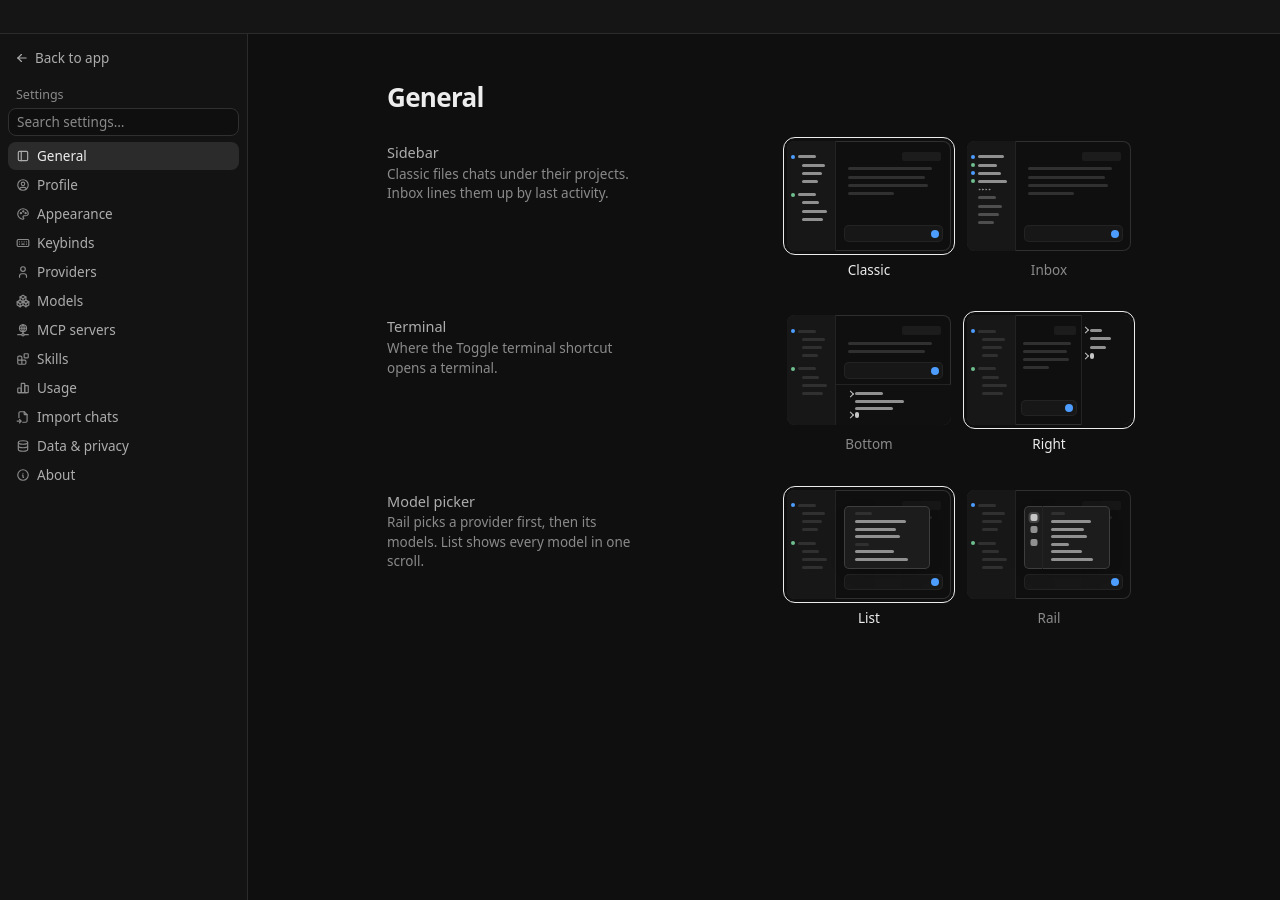
Test: settings viewport layout › lets the terminal shortcut target the bottom panel
Click the radio button labelled "Bottom".
click(869, 384)  # box [787,315,951,454]
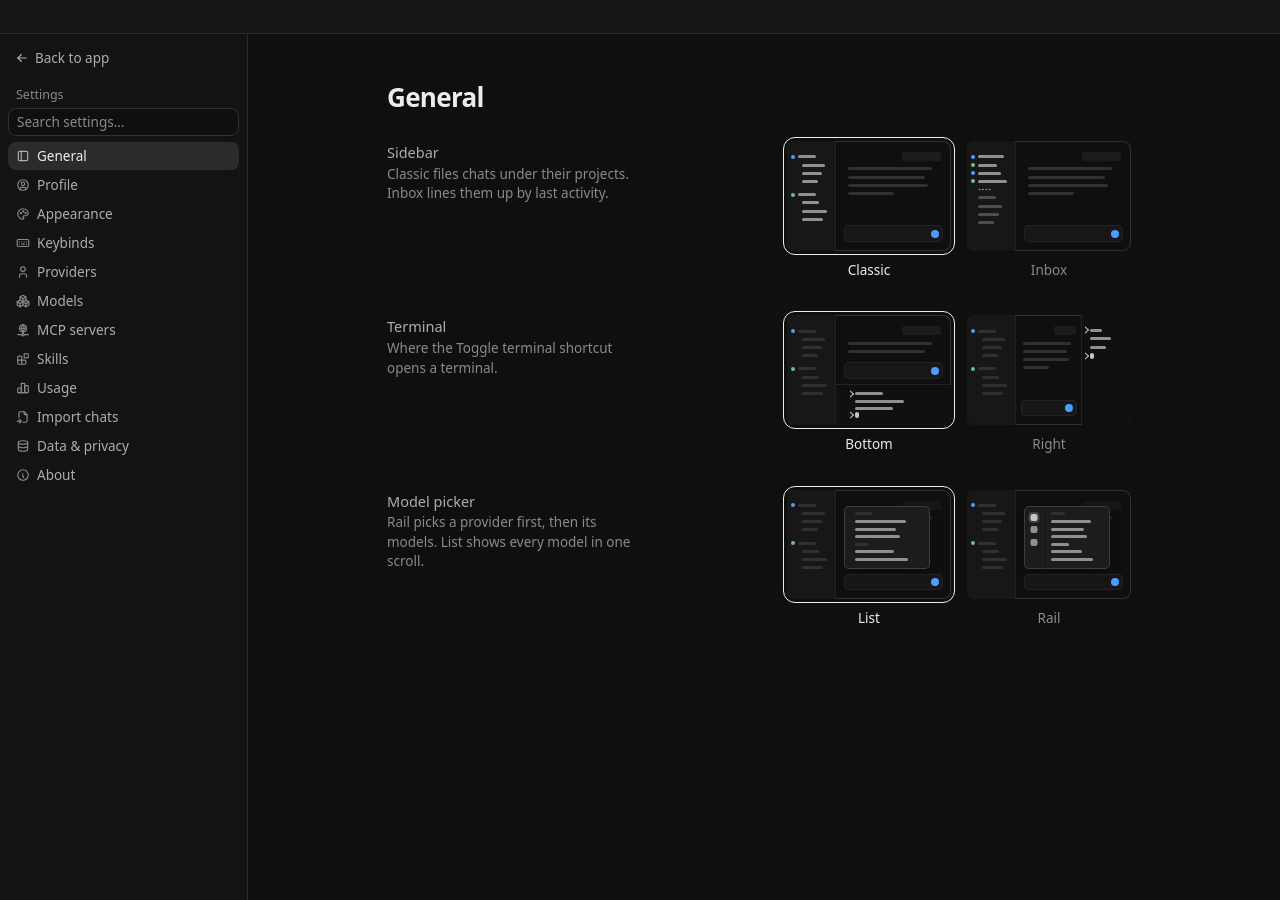
Result: the radio button labelled "Bottom" is checked at [787,315,951,454]
